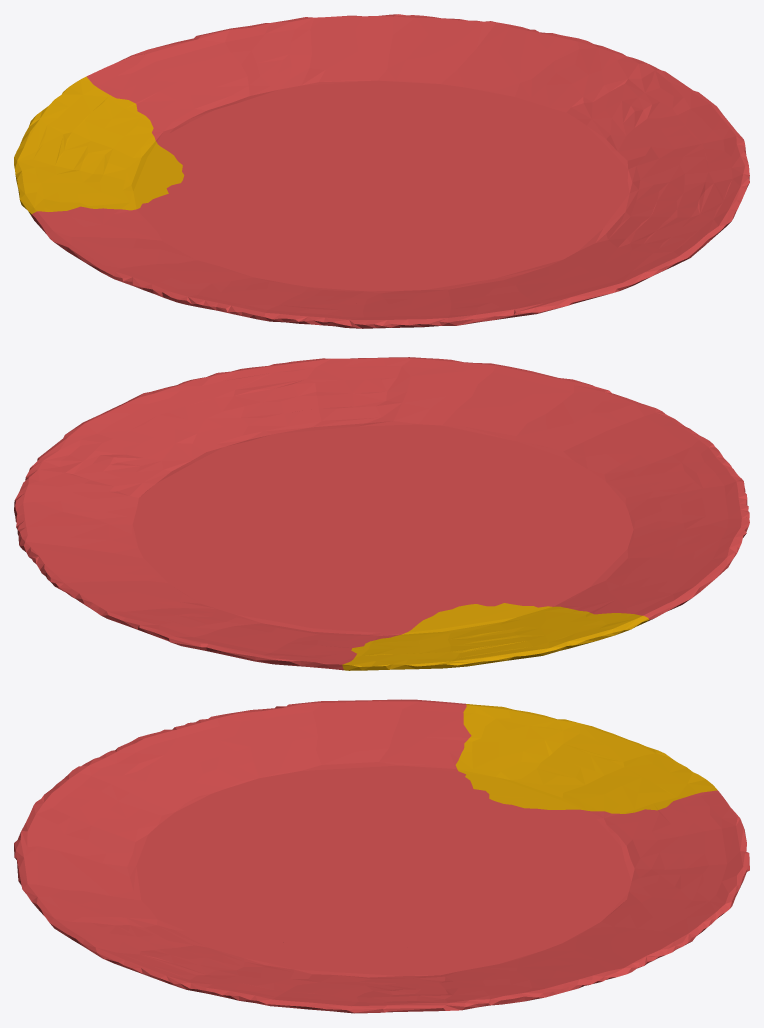
File: fractured_49_2pcs.glb
3 views of the same model, one above another, from view 1: azimuth 30°, elevation 25°; view 2: azimuth 150°, elevation 25°; view 3: azimuth 270°, elevation 25° (orthographic).
Visible parts, largest first — view 1: piece_1.obj, piece_0.obj; view 2: piece_1.obj, piece_0.obj; view 3: piece_1.obj, piece_0.obj.
Part boxes in pixels (<box>): piece_1.obj: <box>31,14,749,328</box>; piece_0.obj: <box>14,76,184,215</box>; piece_1.obj: <box>14,357,749,670</box>; piece_0.obj: <box>342,603,648,670</box>; piece_1.obj: <box>14,699,749,1013</box>; piece_0.obj: <box>455,704,717,813</box>.
Size of the model in its own units: 1 by 0.0373 by 0.9991.
